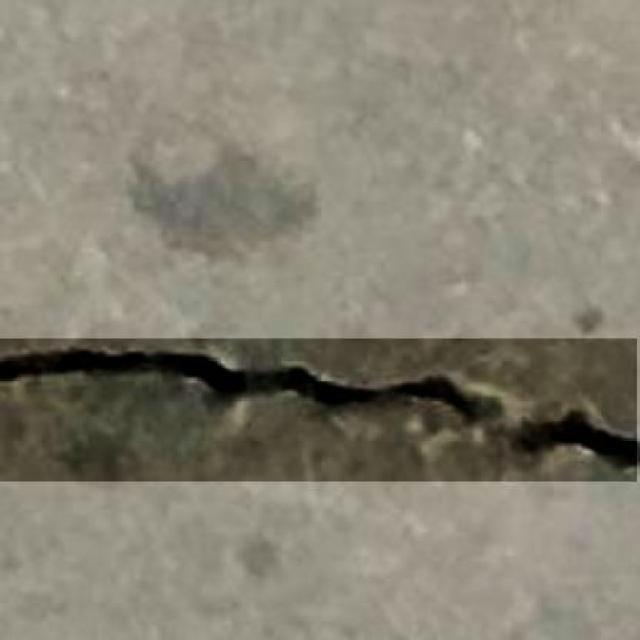crack: (0, 320, 640, 514)
